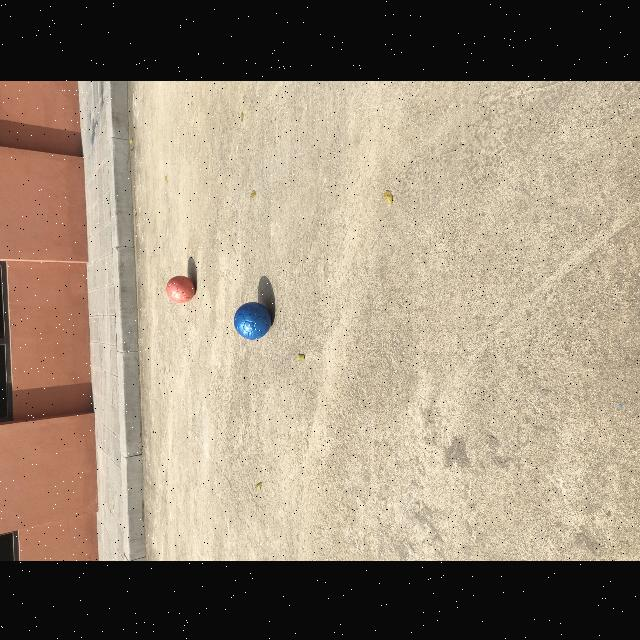B: (234, 301, 272, 339)
R: (167, 275, 194, 302)
